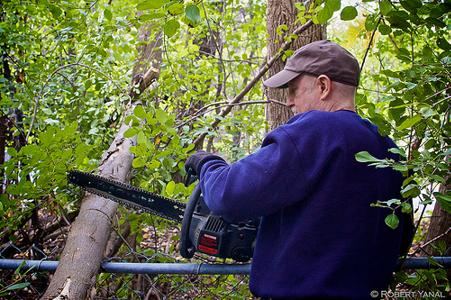person: (178, 40, 416, 300)
